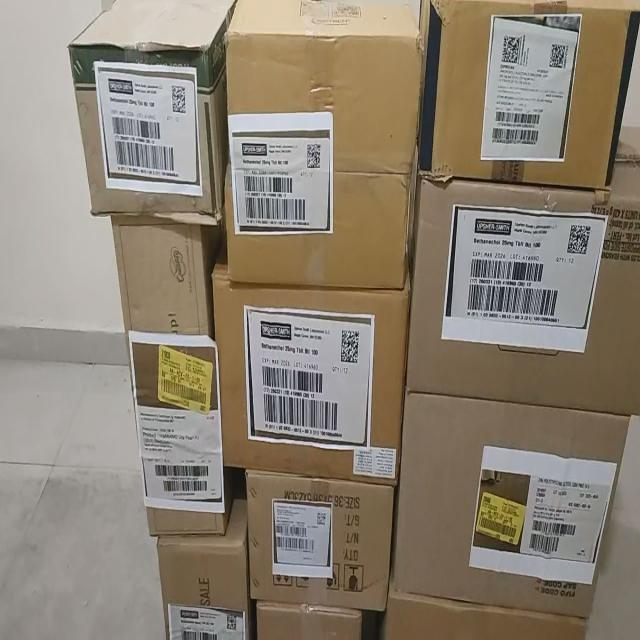BoxFace: (387, 389, 636, 631), (405, 166, 639, 414), (224, 28, 423, 290), (212, 257, 412, 491), (416, 0, 638, 201), (108, 213, 230, 542), (66, 40, 226, 217), (245, 468, 395, 612), (155, 498, 249, 637)
